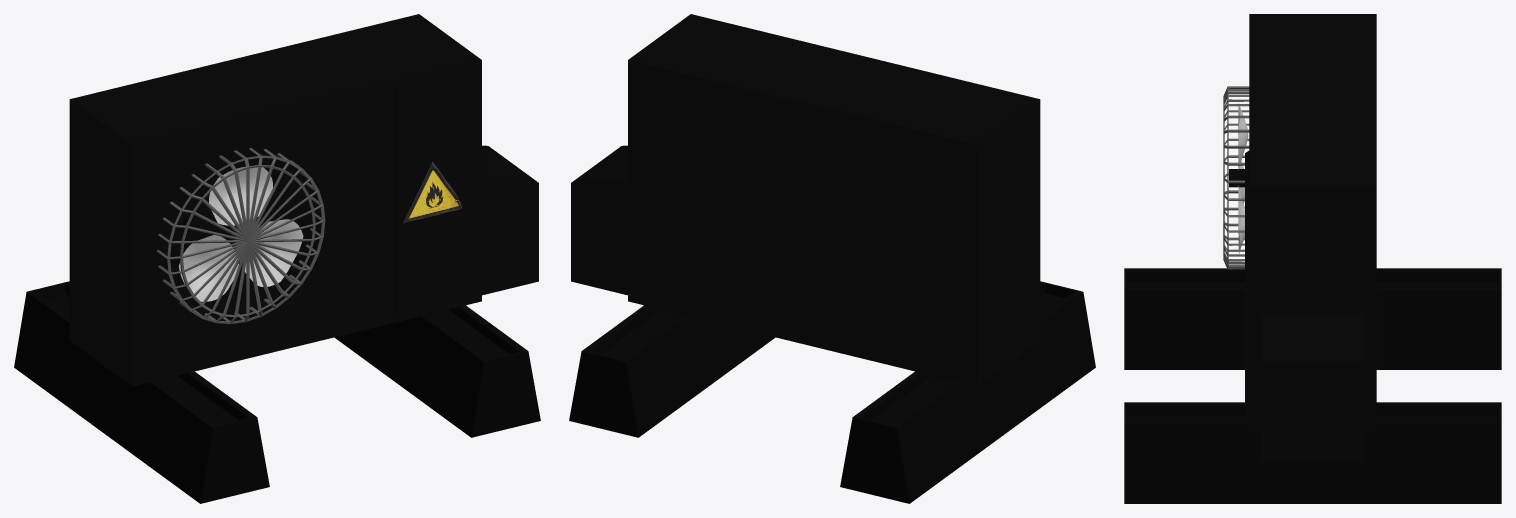
File: HP_Gas.glb
3 renders of one model, left to right at view 1: azimuth 30°, elevation 25°; view 2: azimuth 150°, elevation 25°; view 3: azimuth 270°, elevation 25°, orthographic.
Visible parts, largest first — view 1: Cube; view 2: Cube; view 3: Cube.
Boxes of the visible parts, bbox=[...] form: Cube: bbox=[14, 14, 540, 503]; Cube: bbox=[569, 14, 1095, 503]; Cube: bbox=[1124, 14, 1501, 503].
Size of the model in its own units: 3.58 by 2.61 by 2.8.
Materials: 4 (1 with a texture image).
